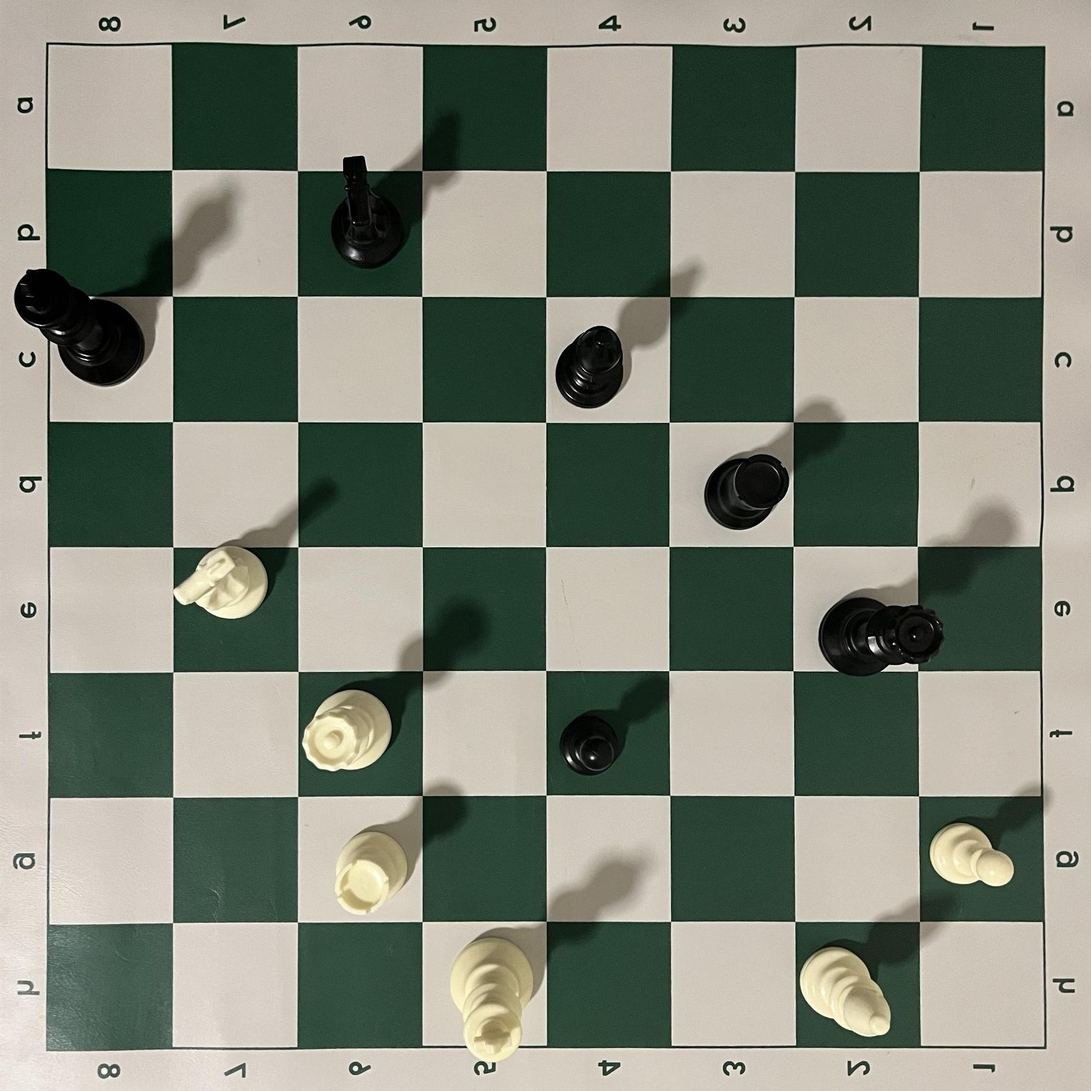black_bishop: (555, 325, 625, 408)
black_king: (14, 268, 146, 386)
black_knight: (330, 155, 404, 269)
black_pawn: (558, 712, 621, 776)
black_queen: (819, 597, 945, 677)
black_rook: (703, 453, 790, 530)
white_bishop: (798, 946, 892, 1038)
white_king: (449, 937, 535, 1064)
white_knight: (173, 546, 269, 620)
white_pawn: (928, 821, 1015, 889)
white_queen: (302, 689, 393, 773)
white_rook: (334, 829, 408, 916)
